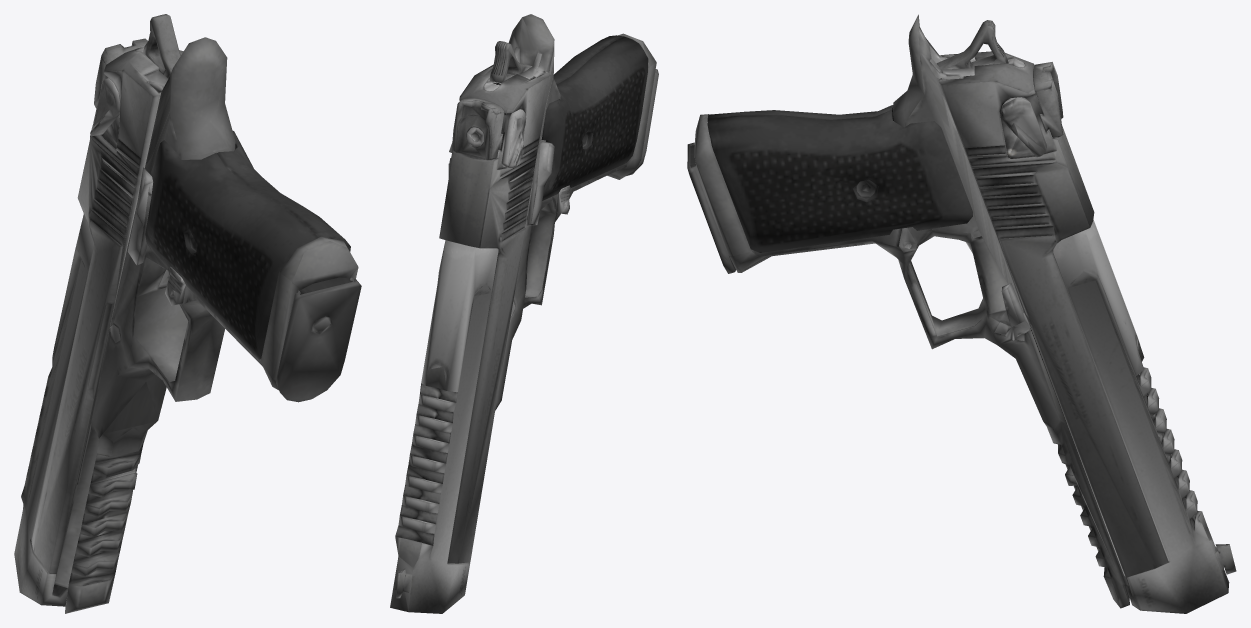
File: HandgunMelee.fbx
The picture shows the model from 3 angles, left to right: view 1: azimuth 30°, elevation 25°; view 2: azimuth 150°, elevation 25°; view 3: azimuth 270°, elevation 25°; orthographic projection. The views are drawn at different scales.
Parts seen in each view (by area): view 1: HandgunMelee; view 2: HandgunMelee; view 3: HandgunMelee.
Part boxes in pixels (x1,y1,x2,y2): HandgunMelee: (14,14,361,613); HandgunMelee: (390,14,658,613); HandgunMelee: (687,14,1236,613).
Size of the model in its own units: 0.0263 by 0.193 by 0.1629.
